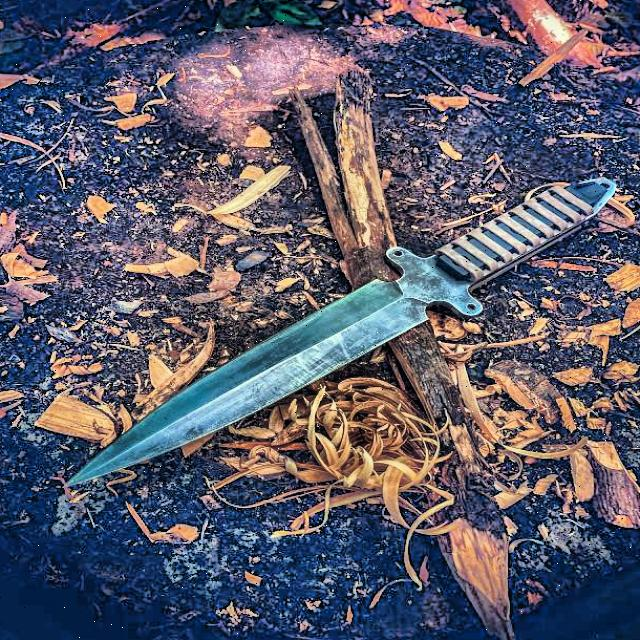knife: (61, 172, 622, 497)
